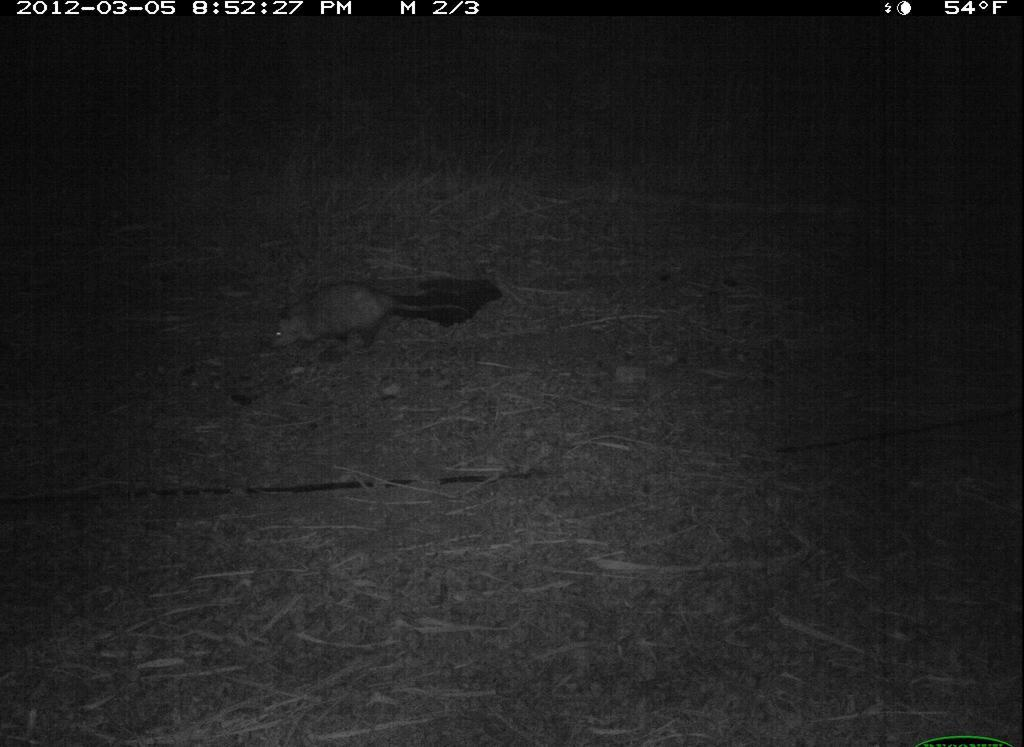opossum: (250, 273, 482, 368)
